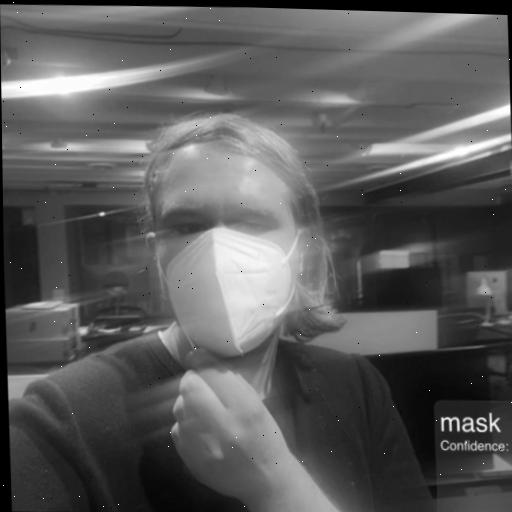mask: (128, 90, 340, 362)
